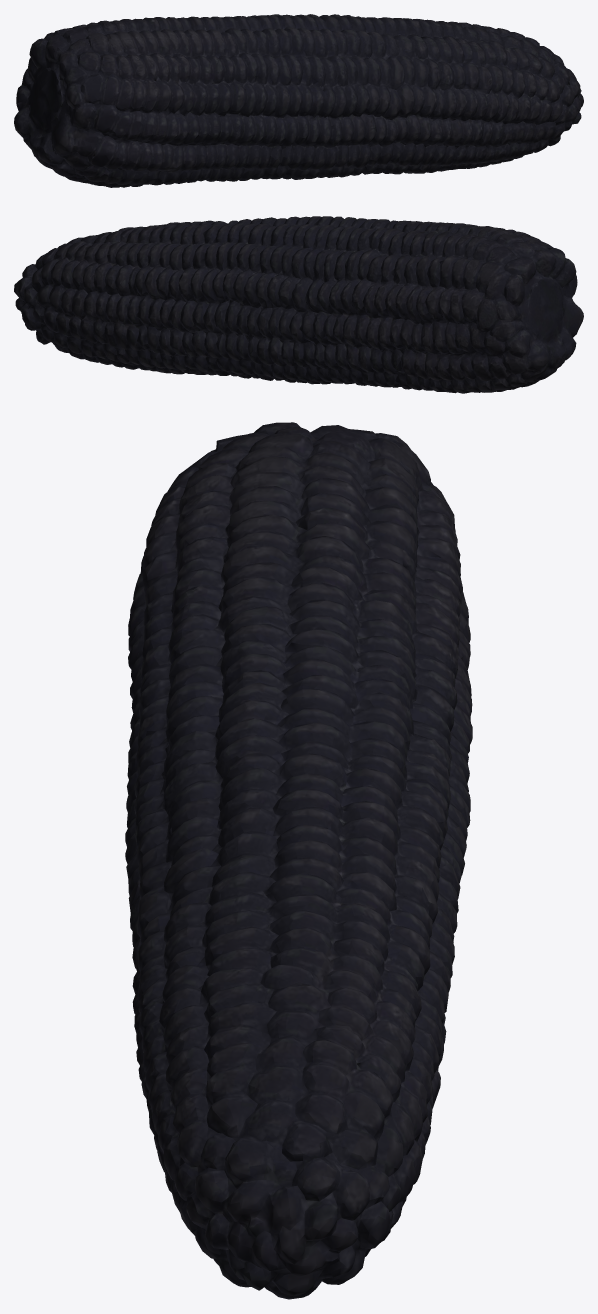
File: BlackVegetableCorn.fbx
3 views of the same model, one above another, from view 1: azimuth 30°, elevation 25°; view 2: azimuth 150°, elevation 25°; view 3: azimuth 270°, elevation 25° (orthographic). The views are drawn at different scales.
Visible parts, largest first — view 1: BlackCorn; view 2: BlackCorn; view 3: BlackCorn.
Part boxes in pixels (x1=…): BlackCorn: x1=14, y1=14, x2=583, y2=187; BlackCorn: x1=14, y1=216, x2=583, y2=393; BlackCorn: x1=125, y1=422, x2=472, y2=1299.
Bounding box in the file's own units: 0.1949 × 0.0539 × 0.0744.
1 material, 1 textured.
